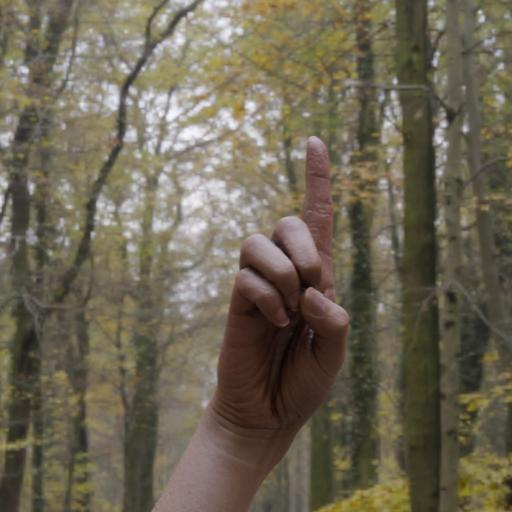D: (206, 114, 376, 472)
